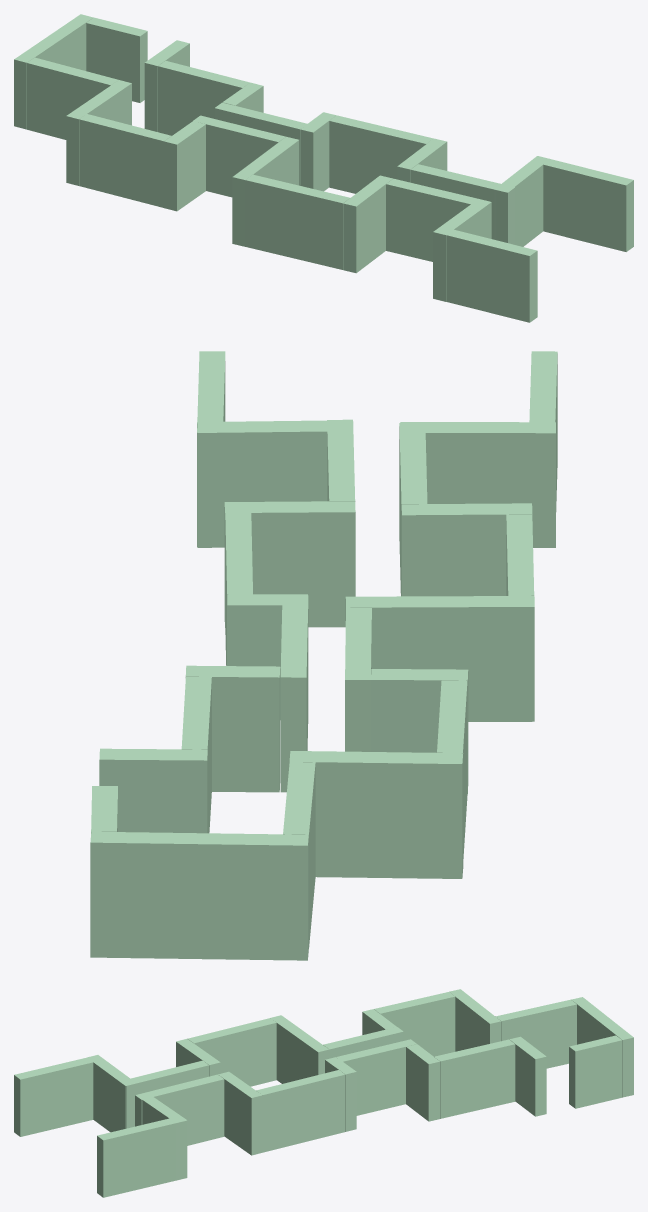
File: DANIELA_WALL_SYSTEM.fbx
The picture shows the model from 3 angles, top to bottom: view 1: azimuth 30°, elevation 25°; view 2: azimuth 150°, elevation 25°; view 3: azimuth 270°, elevation 25°; orthographic projection. The views are drawn at different scales.
Visible parts, largest first — view 1: Wall_9, Wall_2, Wall_24, Wall_17, Wall_10, Wall_6, Wall_21, Wall_18, Wall_23, Wall_13, Wall_7, Wall_16 (+11 smaller); view 2: Wall_22, Wall_19, Wall_12, Wall_4, Wall_3, Wall_8, Wall_7, Wall_15, Wall_20, Wall_16, Wall_14, Wall_11 (+11 smaller); view 3: Wall_24, Wall_10, Wall_2, Wall_18, Wall_9, Wall_5, Wall_14, Wall_23, Wall_21, Wall_17, Wall_8, Wall_12 (+11 smaller).
Part boxes in pixels (x1,y1,x2,y2): Wall_9: (245, 174, 349, 269); Wall_2: (434, 226, 537, 322); Wall_24: (538, 156, 633, 251); Wall_17: (79, 114, 171, 207); Wall_10: (329, 115, 433, 193); Wall_6: (386, 178, 490, 261); Wall_21: (27, 57, 118, 139); Wall_18: (158, 61, 249, 135); Wall_23: (86, 17, 147, 102); Wall_13: (193, 115, 285, 197); Wall_7: (343, 175, 392, 273); Wall_16: (164, 121, 205, 211); Wall_22: (90, 831, 308, 960); Wall_19: (289, 751, 463, 878); Wall_12: (345, 596, 534, 721); Wall_4: (197, 420, 353, 547); Wall_3: (400, 422, 555, 547); Wall_8: (224, 501, 355, 627); Wall_7: (401, 503, 532, 596); Wall_15: (185, 665, 280, 792); Wall_20: (99, 748, 207, 833); Wall_16: (371, 669, 468, 795); Wall_14: (280, 605, 308, 792); Wall_11: (227, 594, 308, 719); Wall_24: (97, 1116, 186, 1197); Wall_10: (256, 1070, 345, 1152); Wall_2: (14, 1057, 95, 1136); Wall_18: (434, 1039, 515, 1118); Wall_9: (187, 1018, 276, 1086); Wall_5: (135, 1074, 224, 1145); Wall_14: (336, 1039, 416, 1115); Wall_23: (569, 1035, 622, 1108); Wall_21: (495, 999, 576, 1068); Wall_17: (374, 992, 455, 1056); Wall_8: (218, 1071, 262, 1155); Wall_12: (270, 1015, 329, 1083).
Size of the model in its own units: 580 by 103 by 1005.
